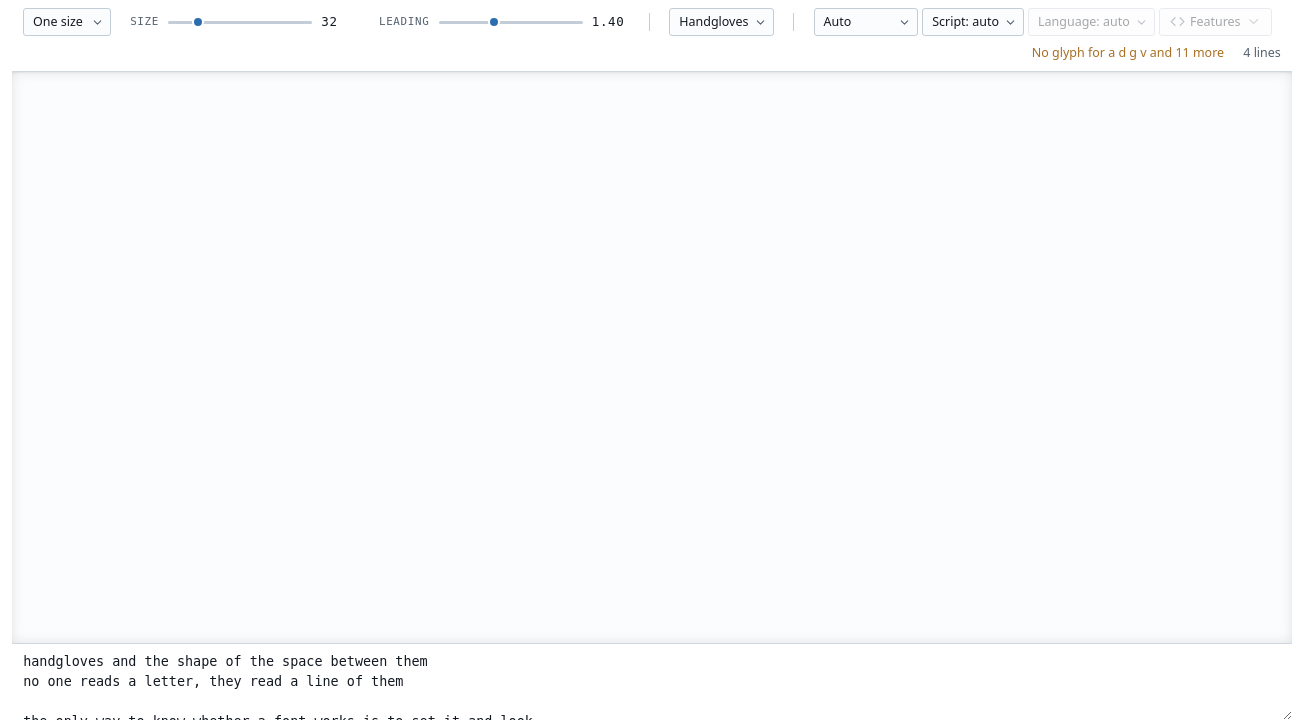
Test: setting the proof › sets whatever is typed beneath it
The image size is (1304, 720).
Replace the text in the text box named "Proof text" with "Hamburgefonstiv": {"x": 652, "y": 681} top-left (12, 642), bottom-right (1292, 719)
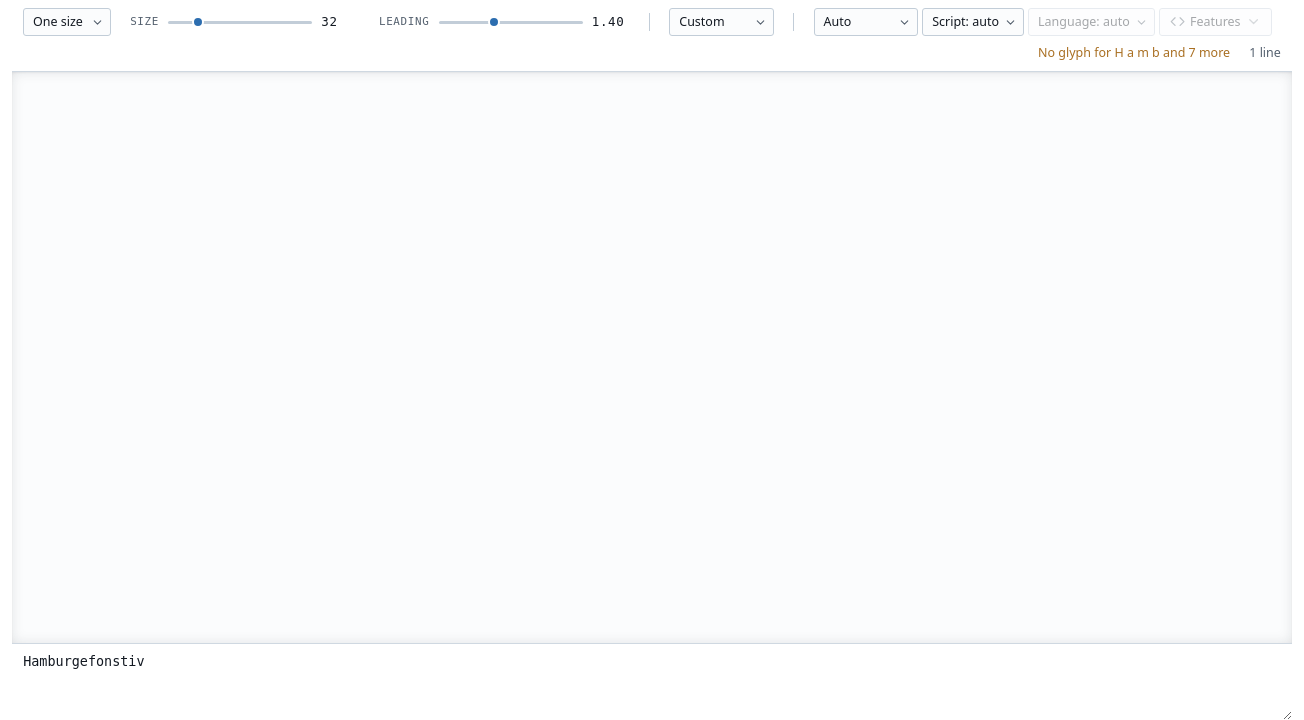
Result: the text "1 line" is shown at top-left (1249, 44), bottom-right (1281, 63)
